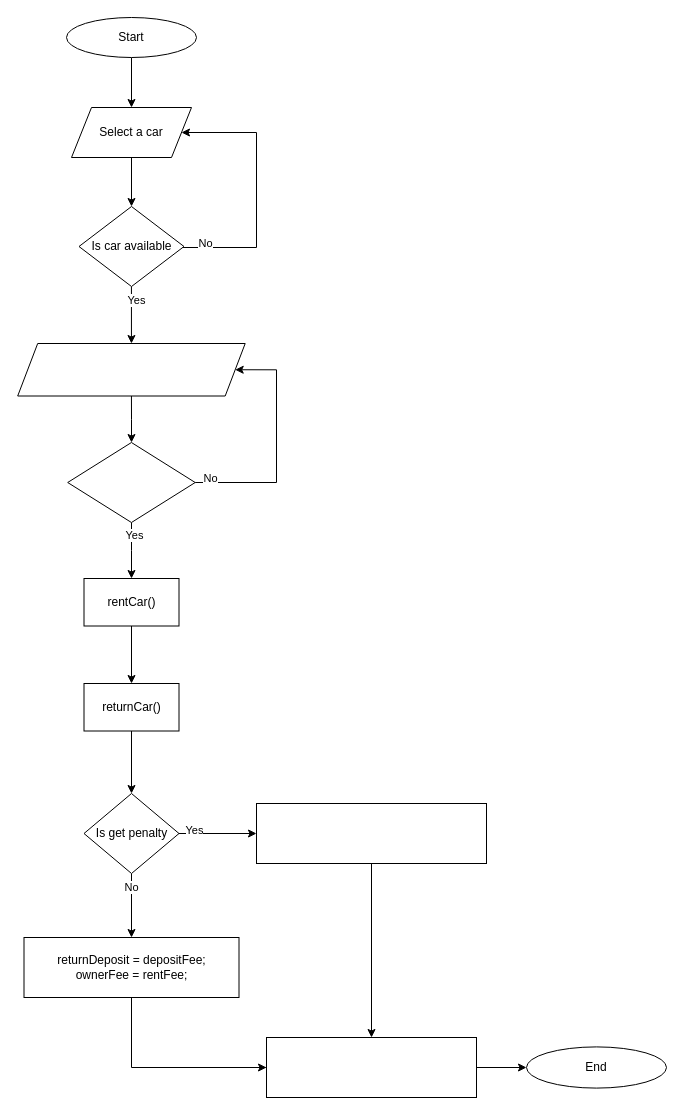
The diagram is 684 pixels wide and 1115 high, and some of its shapes have lost their labels. Each missing label, with the centre of its shape:
"Is totalFee enough" goes at point 131,482.
"pay totalFee = rentFee + depositFee" goes at point 131,369.
"renter.transfer(returnDeposit); owner.transfer(ownerFee);" goes at point 371,1067.
"returnDeposit = depositFee - penaltyFee; ownerFee = rentFee + penaltyFee;" goes at point 371,833.
